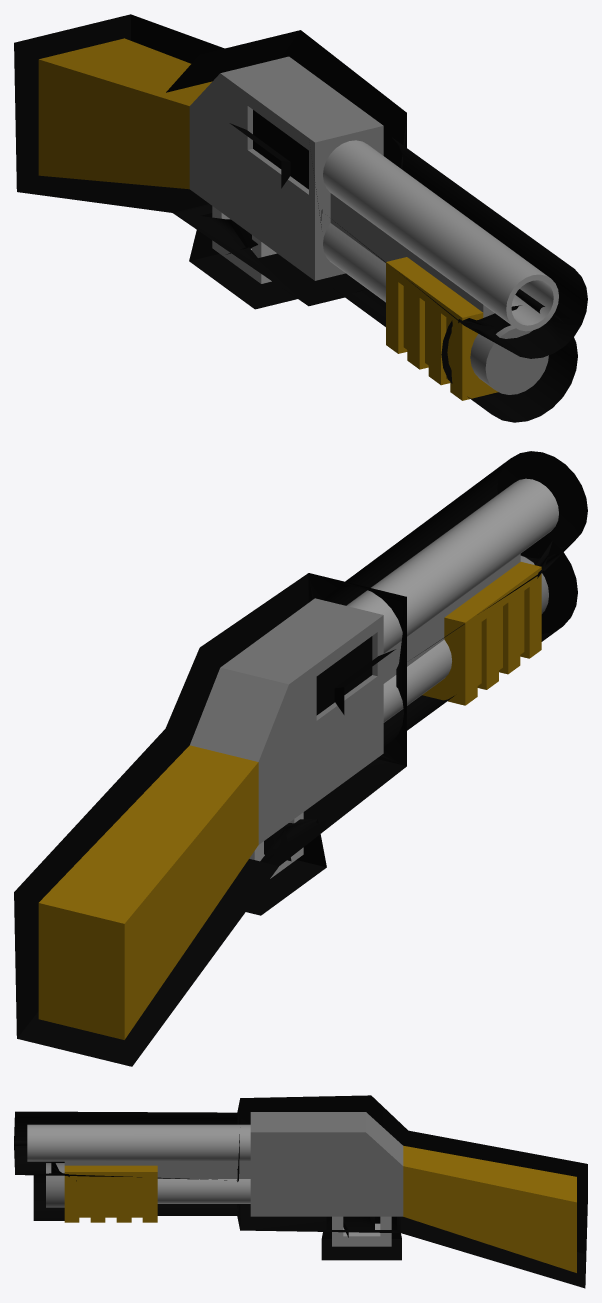
The model's file is shotgun-outline.fbx.
3 renders of one model, top to bottom at view 1: azimuth 30°, elevation 25°; view 2: azimuth 150°, elevation 25°; view 3: azimuth 270°, elevation 25°, orthographic. The views are drawn at different scales.
Parts seen in each view (by area): view 1: shotgun, shotgun.001, grip; view 2: shotgun, shotgun.001, grip; view 3: shotgun, shotgun.001, grip.
Part boxes in pixels (box(x1,y1,x2,y2)): shotgun: box(38, 38, 558, 394); shotgun.001: box(14, 14, 587, 422); grip: box(386, 257, 498, 400); shotgun: box(38, 478, 558, 1039); shotgun.001: box(14, 451, 587, 1066); grip: box(422, 562, 541, 705); shotgun: box(27, 1112, 576, 1272); shotgun.001: box(14, 1095, 587, 1288); grip: box(64, 1165, 157, 1222).
Bounding box in the file's own units: 25.2 × 54.48 × 176.
